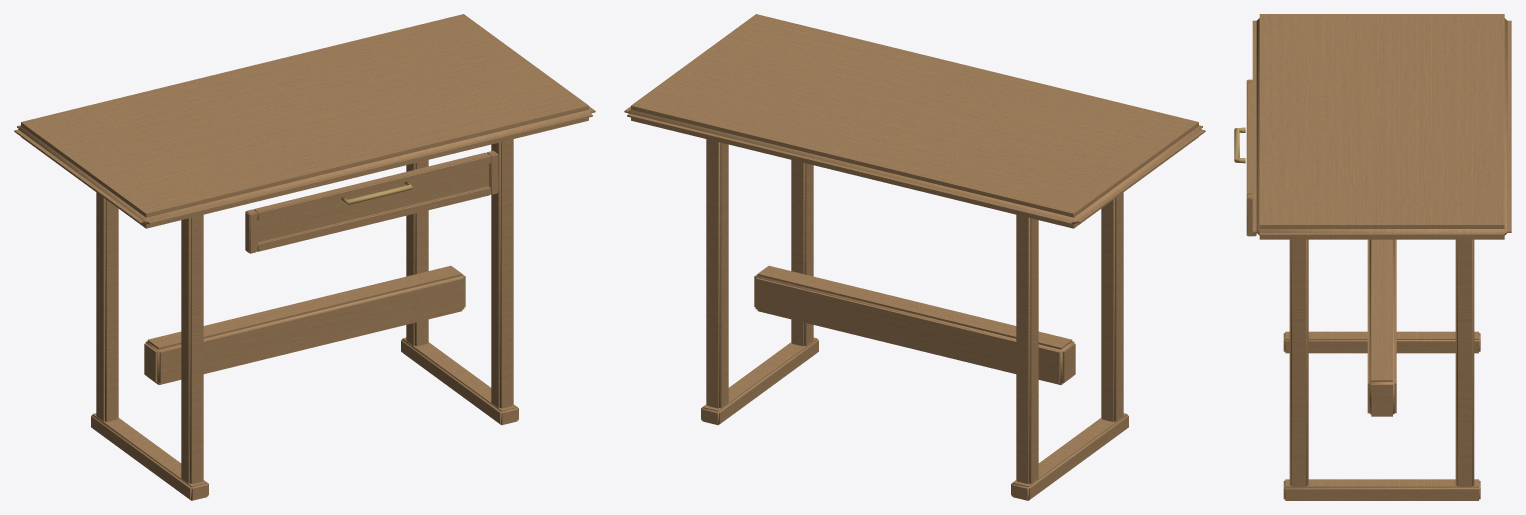
File: country.desk.gltf
3 views of the same model, side by side, from view 1: azimuth 30°, elevation 25°; view 2: azimuth 150°, elevation 25°; view 3: azimuth 270°, elevation 25° (orthographic). The views are drawn at different scales.
Parts seen in each view (by area): view 1: country.desk.rounded-top; view 2: country.desk.rounded-top; view 3: country.desk.rounded-top.
Boxes of the visible parts, x1=… form: country.desk.rounded-top: x1=14, y1=14, x2=595, y2=500; country.desk.rounded-top: x1=624, y1=14, x2=1205, y2=500; country.desk.rounded-top: x1=1234, y1=14, x2=1511, y2=500.
Bounding box in the file's own units: 1.15 × 0.75 × 0.621.
2 materials, 1 textured.
